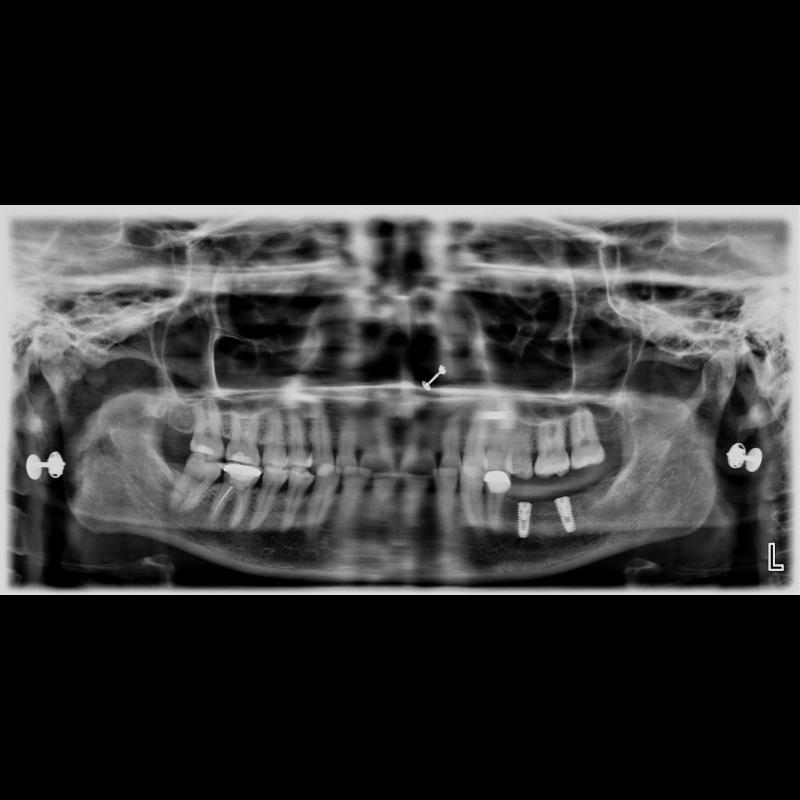osstem: (514, 501, 538, 542), (553, 496, 577, 534)
